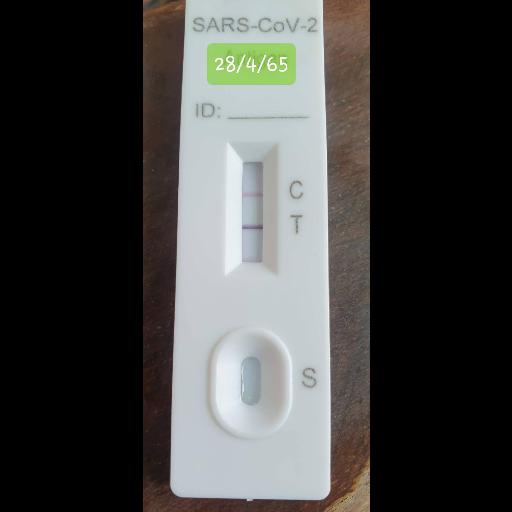Pos: (182, 0, 329, 501)
